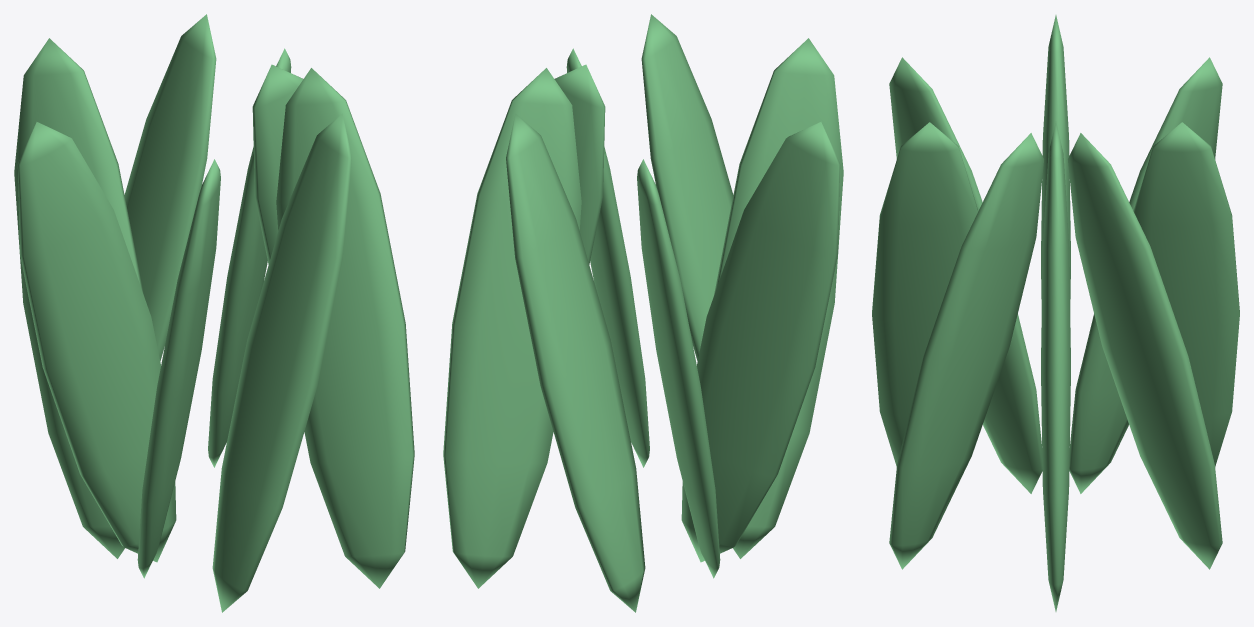
File: env_jungle_fern.glb
3 renders of one model, left to right at view 1: azimuth 30°, elevation 25°; view 2: azimuth 150°, elevation 25°; view 3: azimuth 270°, elevation 25°, orthographic. The views are drawn at different scales.
Parts seen in each view (by area): view 1: ball; view 2: ball; view 3: ball.
Boxes of the visible parts, x1,y1,x2,y2 form: ball: (14, 14, 414, 612); ball: (443, 14, 843, 612); ball: (872, 15, 1239, 611).
Size of the model in its own units: 0.8321 by 0.9565 by 0.7283.
